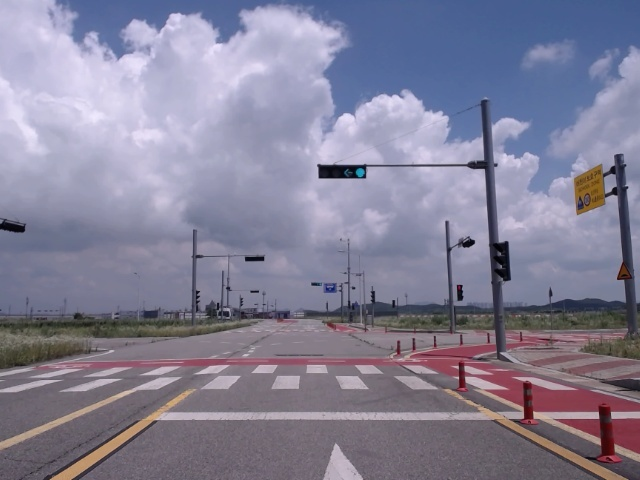all_green_4: (317, 163, 368, 177), (322, 165, 362, 179)
